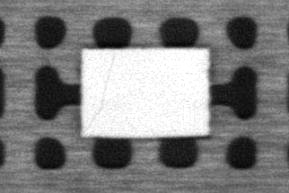DIE_CRACK: (82, 53, 117, 135)
